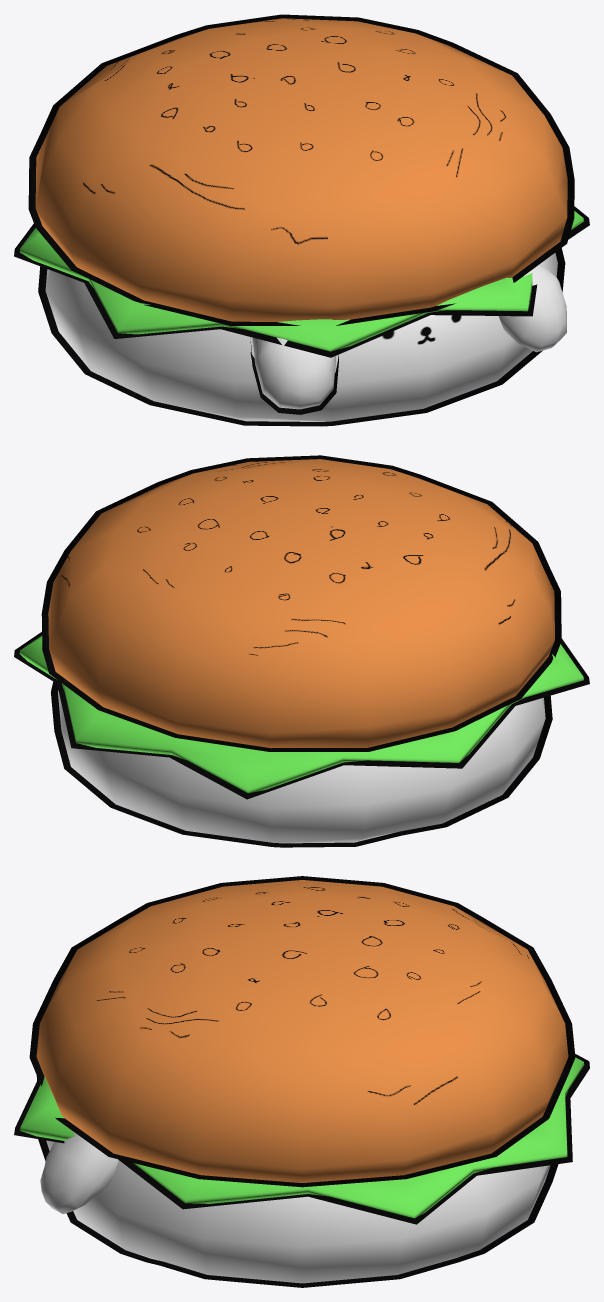
The model's file is bun.glb.
3 views of the same model, one above another, from view 1: azimuth 30°, elevation 25°; view 2: azimuth 150°, elevation 25°; view 3: azimuth 270°, elevation 25° (orthographic). The views are drawn at different scales.
Visible parts, largest first — view 1: Cube, Cube.002, Plane, Cube.001, Cube.003, Cube.007, Plane.001, Cube.005, Cube.004; view 2: Cube, Cube.002, Plane, Cube.001, Cube.007, Plane.001; view 3: Cube, Cube.002, Plane, Cube.001, Cube.005, Plane.001, Cube.007.
Part boxes in pixels (x1,y1,x2,y2): Cube: (35,18,567,321); Cube.002: (45,253,557,421); Plane: (20,211,583,351); Cube.001: (28,14,574,325); Cube.003: (252,337,335,409); Cube.007: (38,248,565,426); Plane.001: (14,206,589,357); Cube.005: (498,263,566,352); Cube.004: (250,338,338,414); Cube: (48,459,554,748); Cube.002: (58,690,545,843); Plane: (19,635,583,793); Cube.001: (41,455,561,751); Cube.007: (51,682,552,847); Plane.001: (14,632,589,799); Cube: (36,880,568,1182); Cube.002: (46,1140,550,1283); Plane: (20,1057,584,1218); Cube.001: (29,876,575,1187); Cube.005: (40,1131,118,1213); Plane.001: (14,1054,589,1224); Cube.007: (38,1139,558,1287).
Size of what is drawn, in the model's own units: 6.98 by 4.06 by 7.11.
5 materials, 2 textured.
